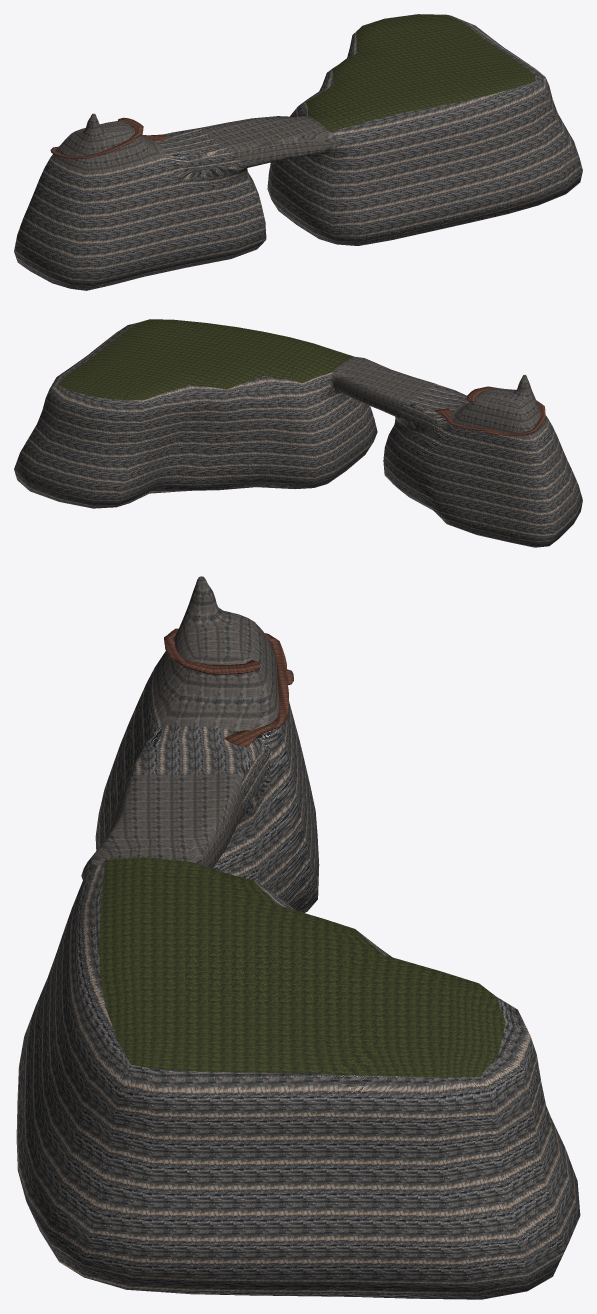
Rendered from SpiralCliff.glb.
3 renders of one model, top to bottom at view 1: azimuth 30°, elevation 25°; view 2: azimuth 150°, elevation 25°; view 3: azimuth 270°, elevation 25°, orthographic. The views are drawn at different scales.
Visible parts, largest first — view 1: MainCliffsChunk-col, WraparoundPathway-col; view 2: MainCliffsChunk-col, WraparoundPathway-col; view 3: MainCliffsChunk-col, WraparoundPathway-col.
Part boxes in pixels (bbox=[...]): MainCliffsChunk-col: bbox=[14, 14, 582, 290]; WraparoundPathway-col: bbox=[50, 117, 166, 158]; MainCliffsChunk-col: bbox=[14, 319, 582, 547]; WraparoundPathway-col: bbox=[434, 386, 545, 436]; MainCliffsChunk-col: bbox=[16, 576, 580, 1299]; WraparoundPathway-col: bbox=[164, 628, 293, 747].
Bounding box in the file's own units: 259 × 79.57 × 130.
Materials: 4 (4 with a texture image).
